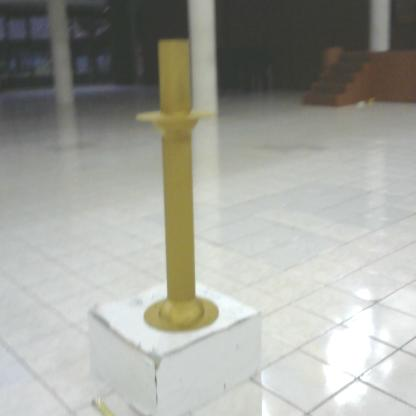pole: (133, 33, 226, 343)
